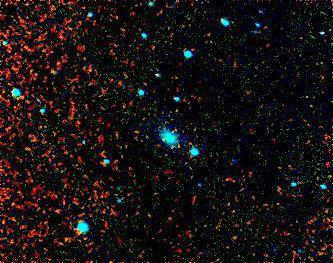star: (167, 113, 197, 143)
